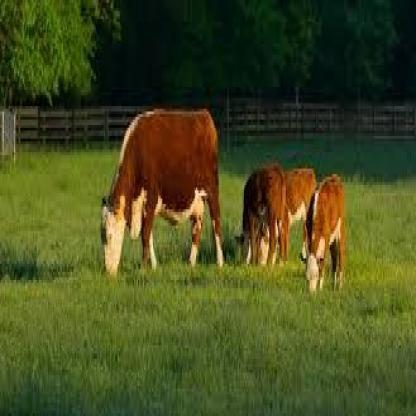cow: (102, 109, 223, 283), (261, 168, 318, 266), (301, 175, 344, 298), (236, 165, 284, 265)
